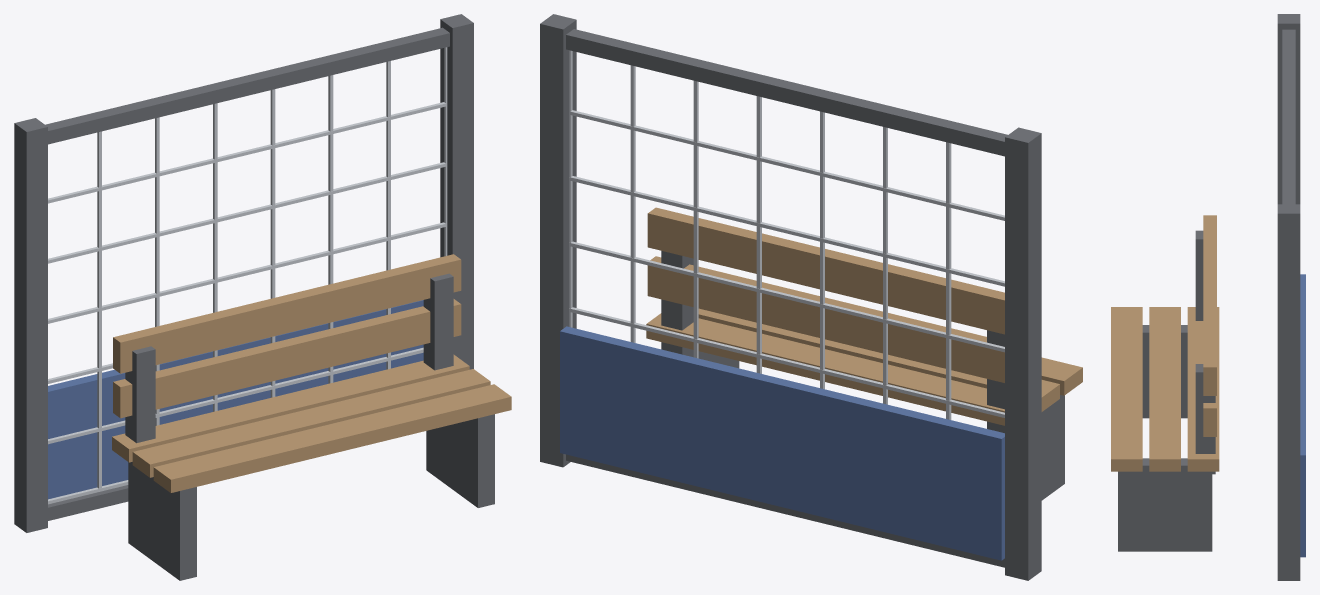
Rendered from baseball-park-and-batting-cages-park-bench-and-fence-6c30b94c__33784.glb.
3 views of the same model, side by side, from view 1: azimuth 30°, elevation 25°; view 2: azimuth 150°, elevation 25°; view 3: azimuth 270°, elevation 25° (orthographic). The views are drawn at different scales.
Parts seen in each view (by area): view 1: park-bench-and-fence; view 2: park-bench-and-fence; view 3: park-bench-and-fence.
Part boxes in pixels (bbox=[...]): park-bench-and-fence: bbox=[14, 14, 511, 580]; park-bench-and-fence: bbox=[540, 14, 1082, 580]; park-bench-and-fence: bbox=[1111, 14, 1305, 580].
Bounding box in the file's own units: 2.1 × 1.8 × 0.865.
